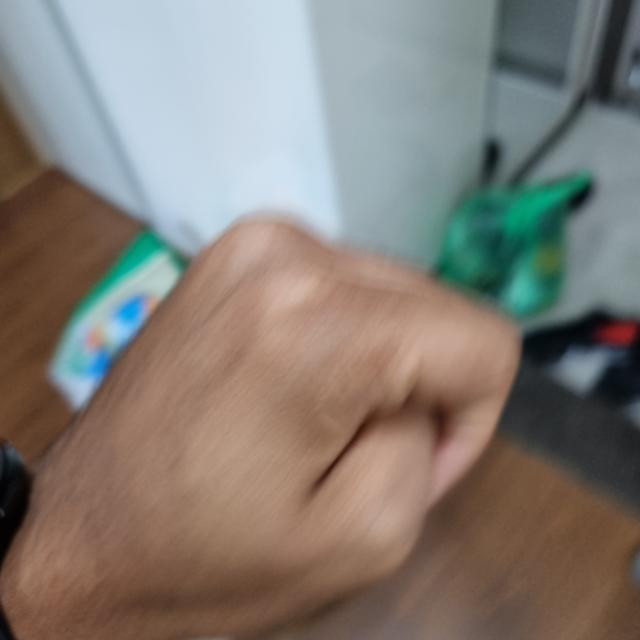Rock: (7, 214, 519, 638)
